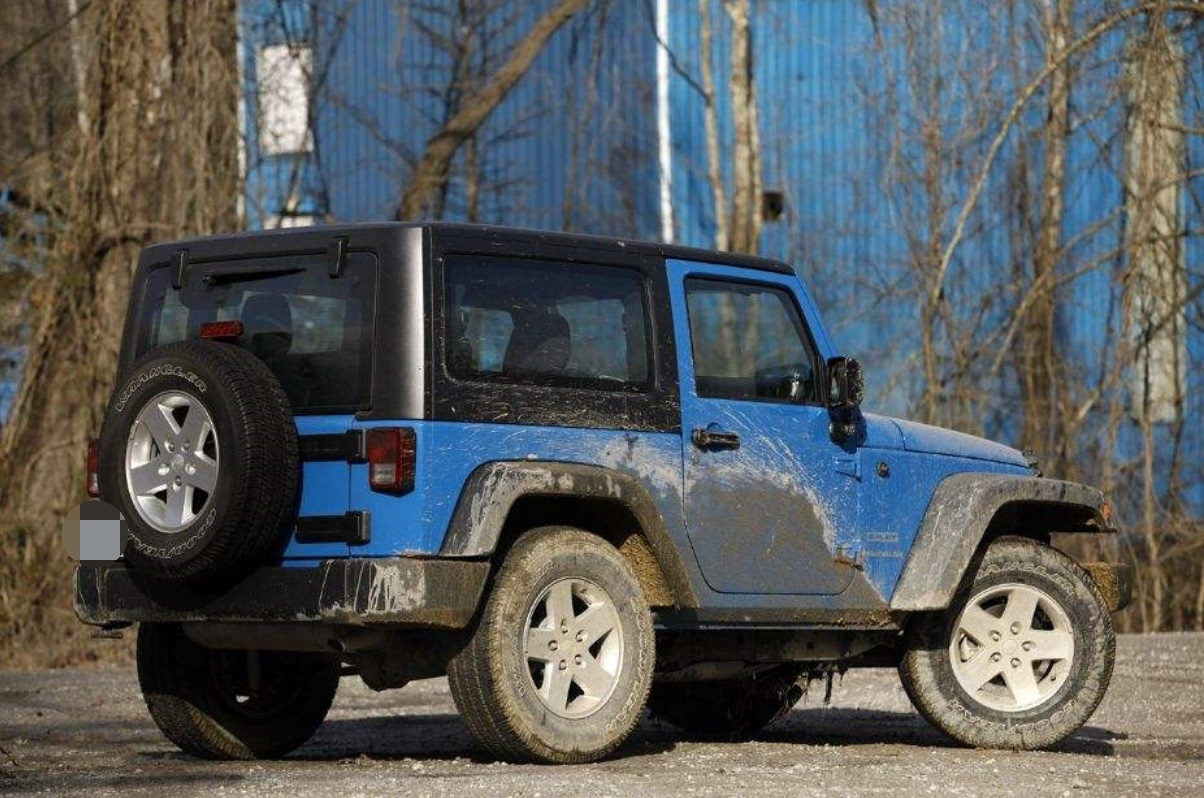jeep: (82, 202, 1118, 763)
